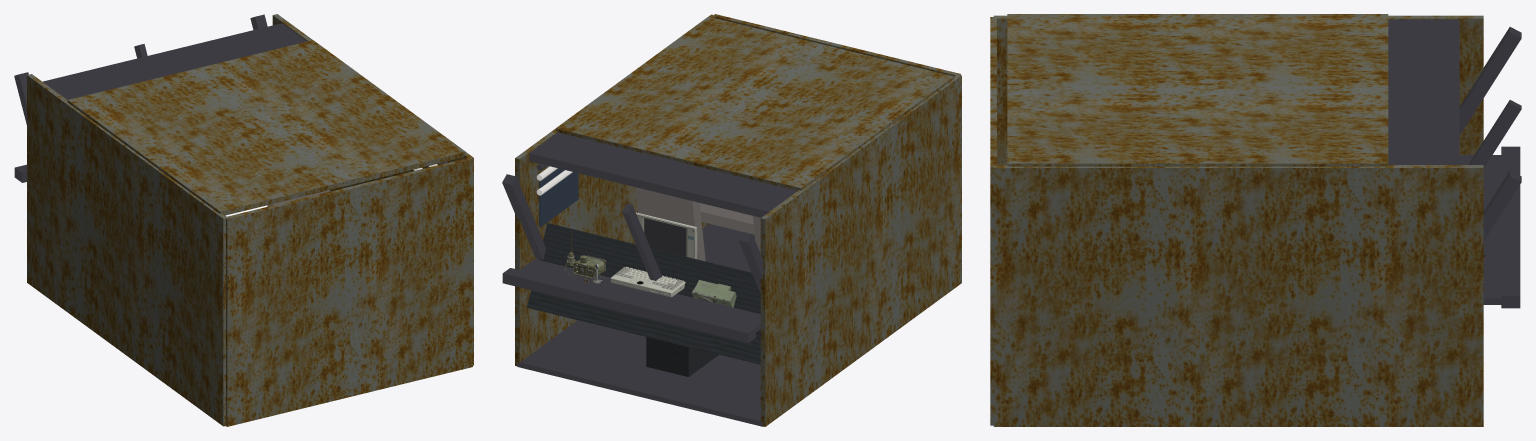
File: kokpit.glb
3 renders of one model, left to right at view 1: azimuth 30°, elevation 25°; view 2: azimuth 150°, elevation 25°; view 3: azimuth 270°, elevation 25°, orthographic. The views are drawn at different scales.
Visible parts, largest first — view 1: static__hullin, static__cockdark; view 2: static__hullin, static__cockdark, static__panel, static__seat, static__classic_laptop.001, static__sideglass.001, static__classic_laptop, static__vintage_spacecraft_instrument, static__vintage_radio_transceiver, static__vintage_radio_transceiver_accessories; view 3: static__hullin, static__cockdark.
Boxes of the visible parts, x1=… form: static__hullin: x1=27, y1=14, x2=473, y2=426; static__cockdark: x1=14, y1=14, x2=447, y2=426; static__hullin: x1=515, y1=14, x2=961, y2=426; static__cockdark: x1=502, y1=132, x2=797, y2=426; static__panel: x1=527, y1=223, x2=760, y2=376; static__seat: x1=635, y1=187, x2=760, y2=261; static__classic_laptop.001: x1=634, y1=212, x2=697, y2=259; static__sideglass.001: x1=539, y1=168, x2=578, y2=227; static__classic_laptop: x1=610, y1=266, x2=685, y2=297; static__vintage_spacecraft_instrument: x1=691, y1=280, x2=736, y2=307; static__vintage_radio_transceiver: x1=573, y1=255, x2=606, y2=278; static__vintage_radio_transceiver_accessories: x1=564, y1=231, x2=608, y2=283; static__hullin: x1=990, y1=14, x2=1483, y2=426; static__cockdark: x1=1388, y1=19, x2=1521, y2=308.
Bounding box in the file's own units: 2.65 × 2.13 × 3.91.
Materials: 16 (16 with a texture image).
